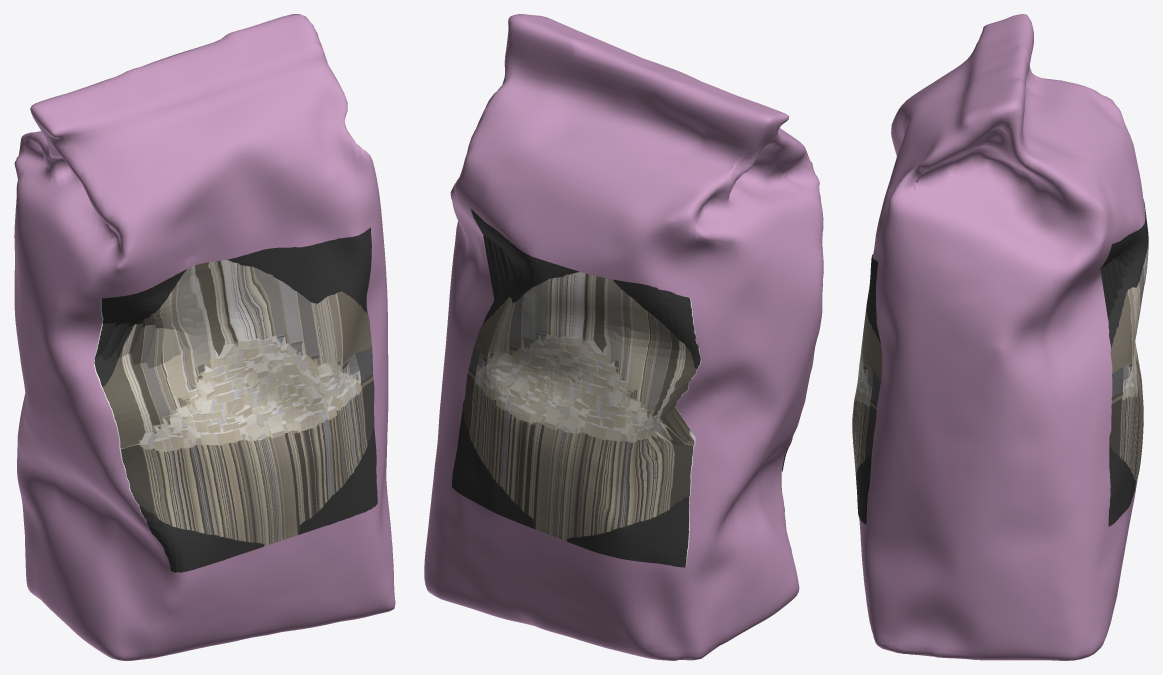
File: BagdedSugar_Visual.fbx
The picture shows the model from 3 angles, left to right: view 1: azimuth 30°, elevation 25°; view 2: azimuth 150°, elevation 25°; view 3: azimuth 270°, elevation 25°; orthographic projection. The views are drawn at different scales.
Visible parts, largest first — view 1: Bag, SugarLogo2; view 2: Bag, SugarLogo1; view 3: Bag, SugarLogo1, SugarLogo2.
Boxes of the visible parts, <box> form: Bag: <box>14,14,395,660</box>; SugarLogo2: <box>94,227,377,572</box>; Bag: <box>424,14,823,660</box>; SugarLogo1: <box>452,209,701,567</box>; Bag: <box>859,14,1145,660</box>; SugarLogo1: <box>1100,199,1148,526</box>; SugarLogo2: <box>852,254,882,523</box>.
Size of the model in its own units: 12.88 by 20 by 10.06.
